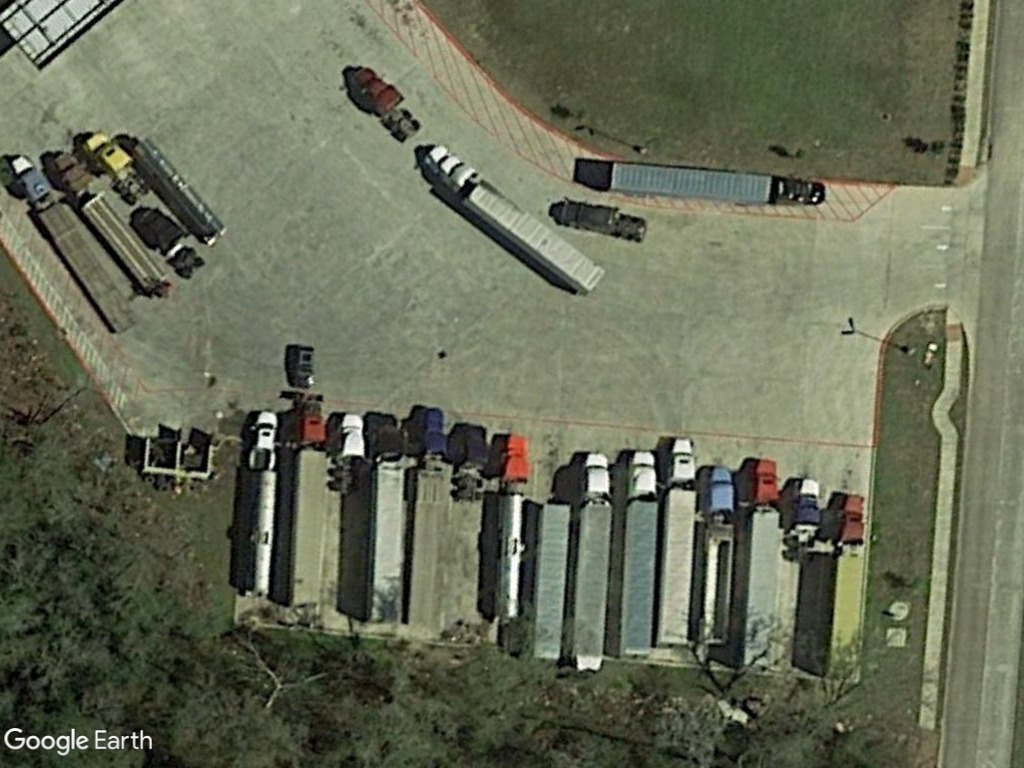longvehicle: (421, 143, 607, 299), (11, 154, 140, 343), (600, 152, 828, 212), (403, 417, 456, 644), (569, 448, 618, 670), (360, 421, 411, 629), (654, 432, 702, 652), (737, 455, 784, 676), (286, 405, 335, 613), (820, 491, 872, 684), (618, 440, 661, 664)
